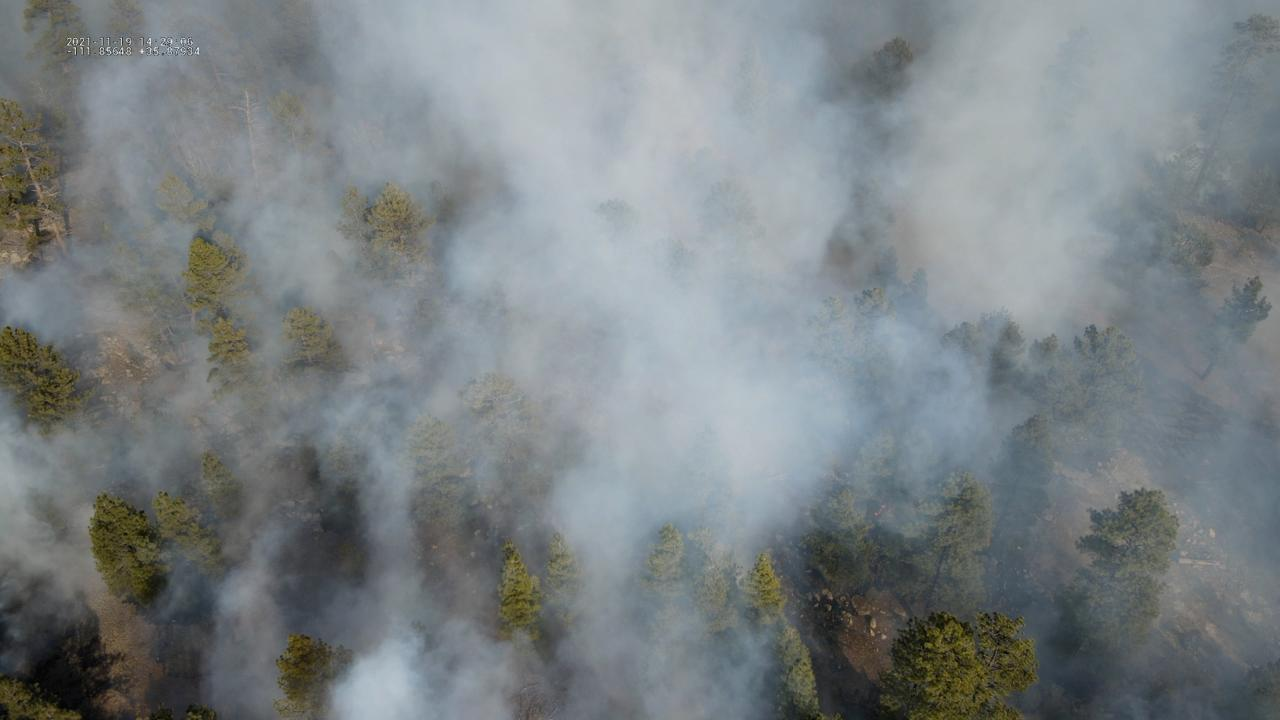fire: (873, 502, 889, 518)
smoke: (0, 0, 1280, 720)
